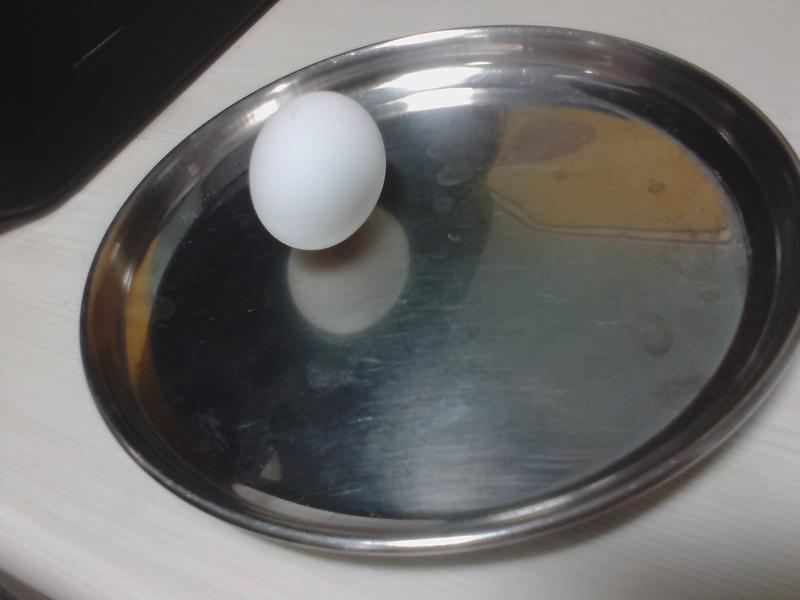egg: (254, 91, 383, 243)
